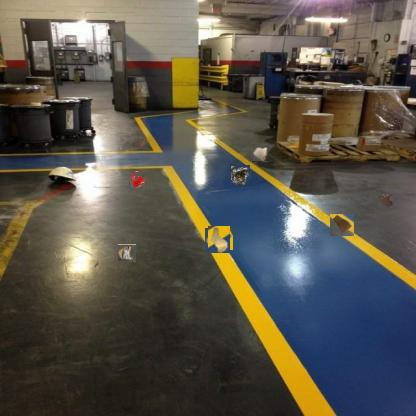dirty: (206, 226, 232, 251), (330, 214, 354, 236), (230, 165, 250, 185), (251, 145, 269, 162), (119, 244, 136, 262)
liquid: (129, 171, 145, 187), (378, 194, 394, 208)
